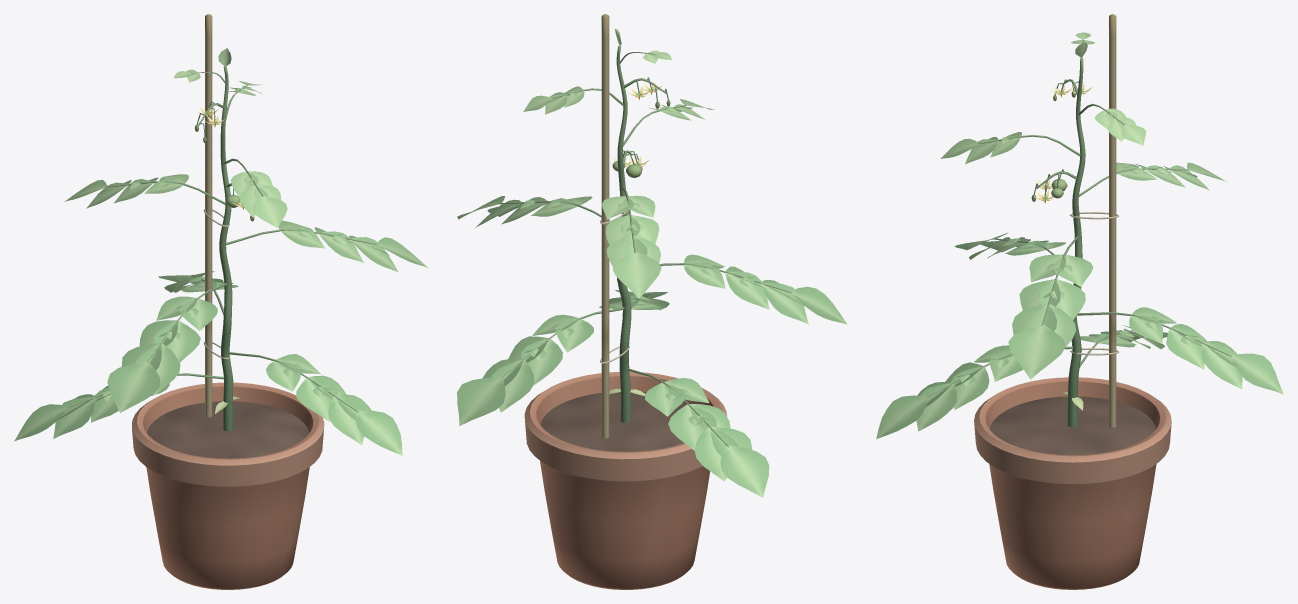
The model's file is tomato_stage3.glb.
3 renders of one model, left to right at view 1: azimuth 30°, elevation 25°; view 2: azimuth 150°, elevation 25°; view 3: azimuth 270°, elevation 25°, orthographic. The views are drawn at different scales.
Visible parts, largest first — view 1: tomato_stage3; view 2: tomato_stage3; view 3: tomato_stage3.
Part boxes in pixels (x1=…): tomato_stage3: x1=14, y1=14, x2=427, y2=589; tomato_stage3: x1=457, y1=14, x2=847, y2=589; tomato_stage3: x1=876, y1=14, x2=1283, y2=589.
Size of what is drawn, in the model's own units: 0.4724 by 0.6865 by 0.462.
